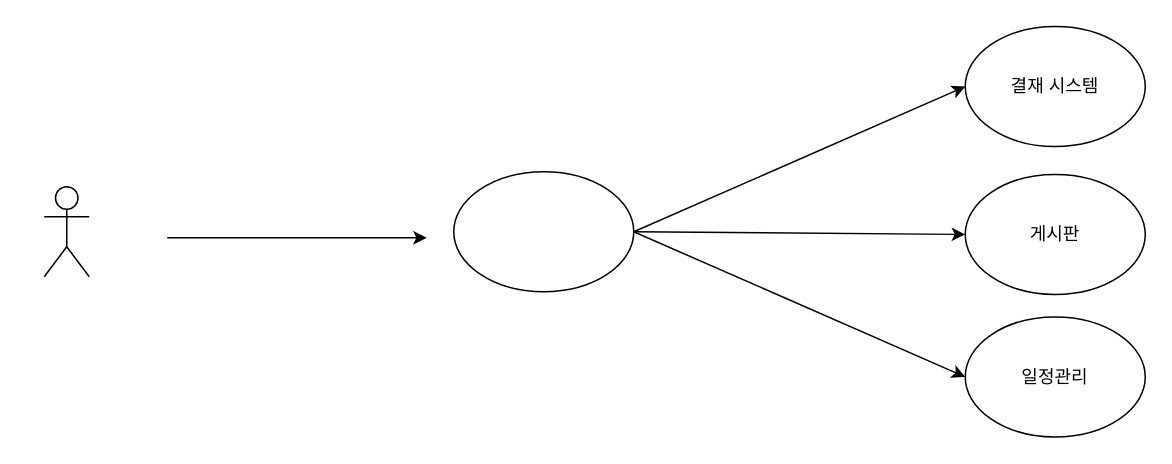
This 1172x464 diagram has some shape labels left out. The shapes that lost their labels are listed below. From the top down, each one's centre as x and y in pixels, then its label:
At [66,231]: "인사 관리자".
At [543,231]: "사이드바".
